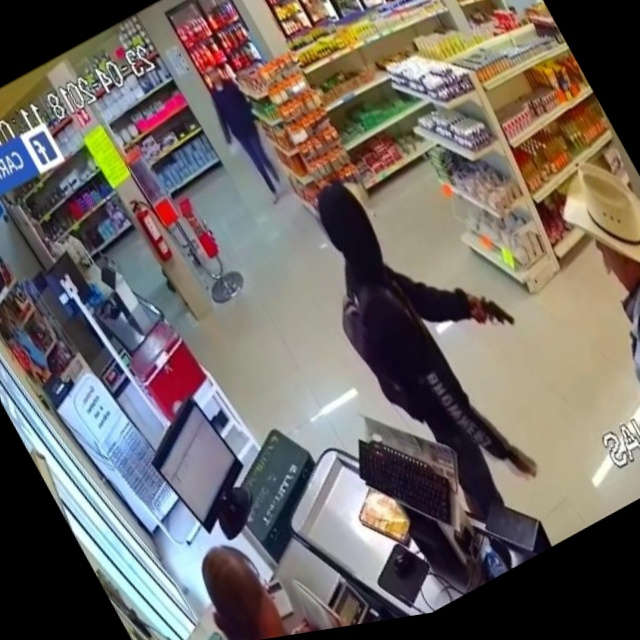gun: (463, 268, 530, 360)
